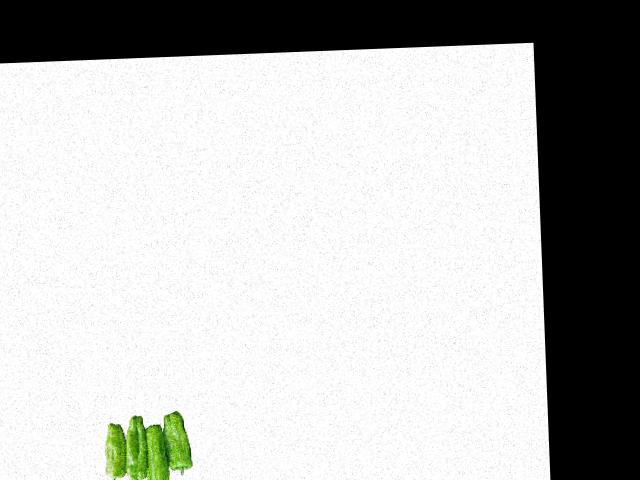bell_pepper: (162, 405, 192, 479)
